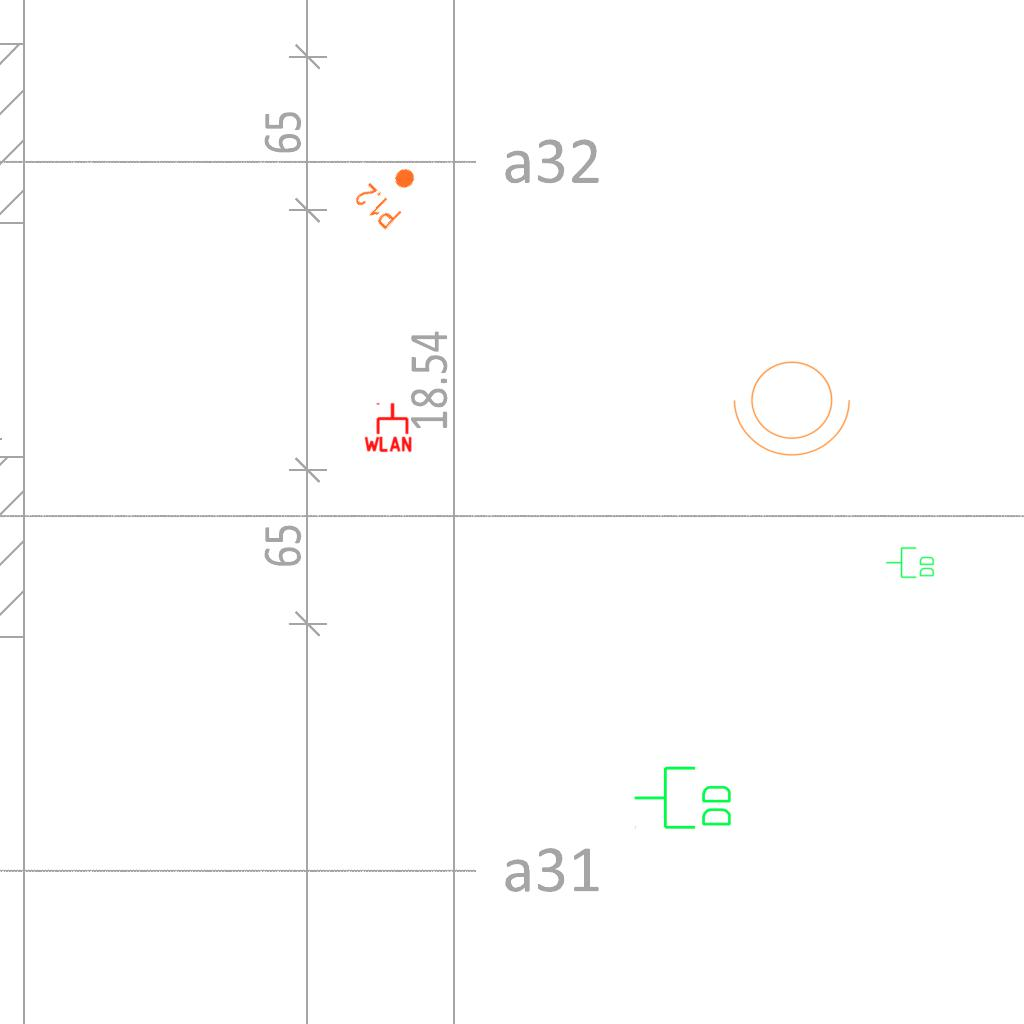Datenanschluss_zweifach: (632, 764, 735, 833), (885, 546, 936, 580)
Downlight_LED_Einbauleuchten_Flur: (351, 153, 429, 233)
Scheinwerfer_fuer_Alarmbeleuchtung: (729, 349, 861, 461)
WLAN: (362, 401, 414, 453)
